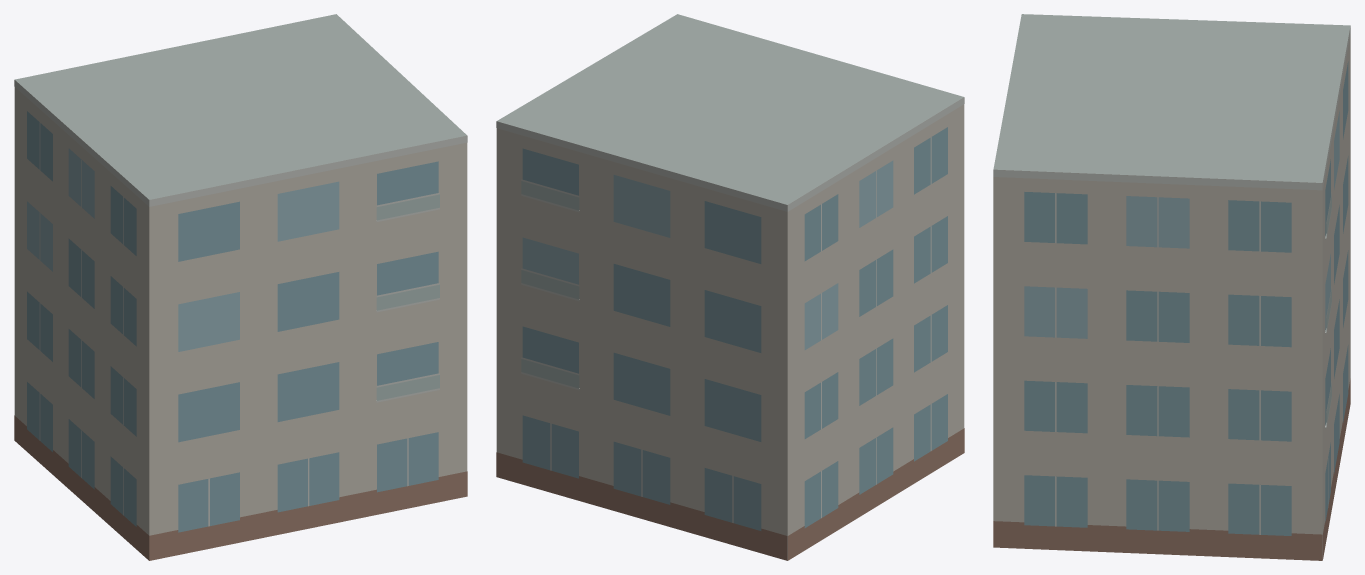
Rendered from survey-upis-32805545.glb.
3 views of the same model, side by side, from view 1: azimuth 30°, elevation 25°; view 2: azimuth 150°, elevation 25°; view 3: azimuth 270°, elevation 25° (orthographic). The views are drawn at different scales.
Visible parts, largest first — view 1: survey-upis-32805545.tmp; view 2: survey-upis-32805545.tmp; view 3: survey-upis-32805545.tmp.
Part boxes in pixels (left/top/right/bottom): survey-upis-32805545.tmp: left=14, top=14, right=467, bottom=560; survey-upis-32805545.tmp: left=496, top=14, right=964, bottom=560; survey-upis-32805545.tmp: left=993, top=14, right=1350, bottom=560.
Size of the model in its own units: 12.1 by 12.6 by 10.81.
